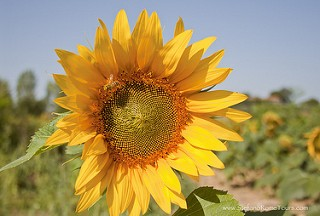flower: (43, 6, 254, 216)
